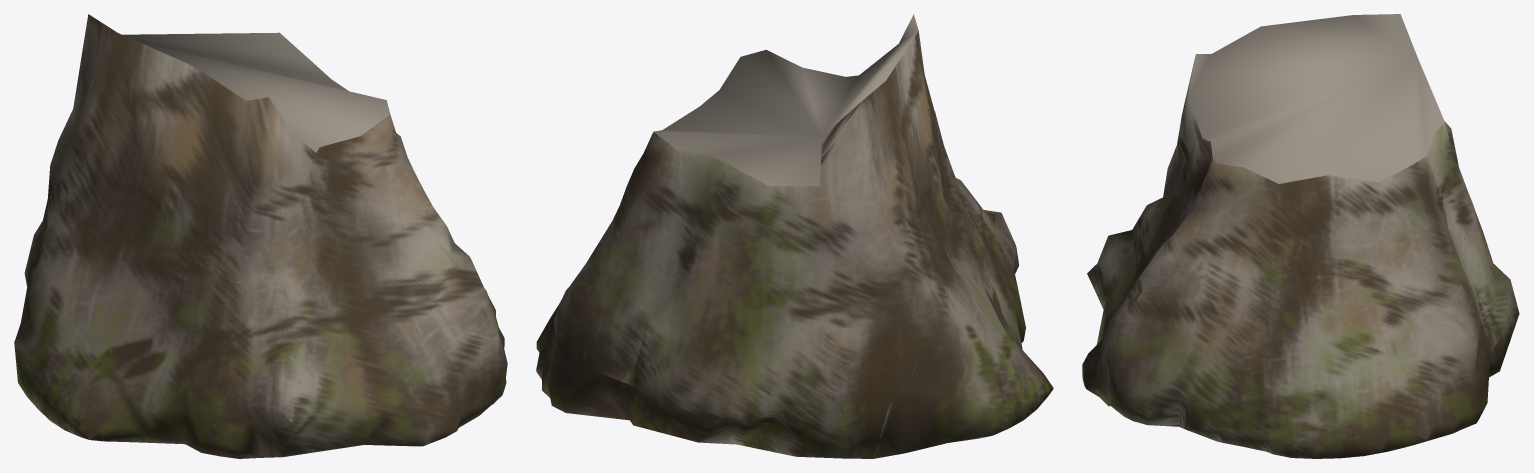
File: DestroyedOliveTreeLog.fbx
The picture shows the model from 3 angles, left to right: view 1: azimuth 30°, elevation 25°; view 2: azimuth 150°, elevation 25°; view 3: azimuth 270°, elevation 25°; orthographic projection. The views are drawn at different scales.
Parts seen in each view (by area): view 1: DestroyedOliveTreeLog; view 2: DestroyedOliveTreeLog; view 3: DestroyedOliveTreeLog.
Boxes of the visible parts, box(x1,y1,x2,y2) form: DestroyedOliveTreeLog: box(14, 14, 507, 458); DestroyedOliveTreeLog: box(536, 14, 1053, 458); DestroyedOliveTreeLog: box(1082, 14, 1519, 458).
Bounding box in the file's own units: 3.03 × 2.28 × 2.95.
